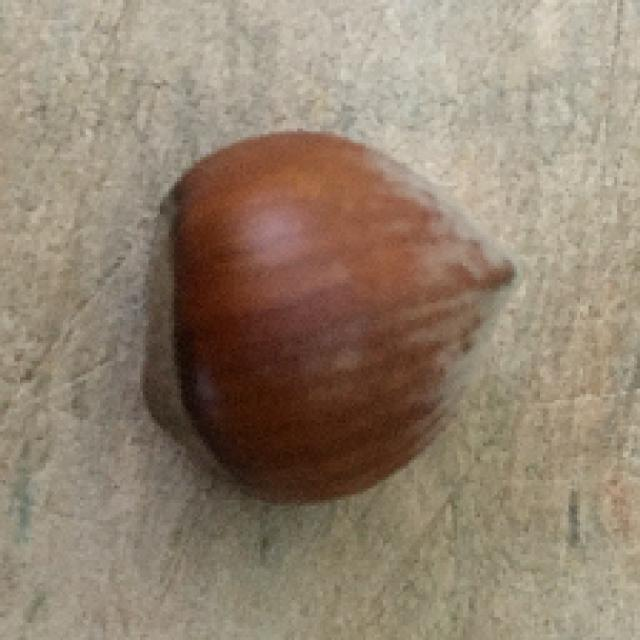damagedHazelnut: (114, 112, 526, 512)
